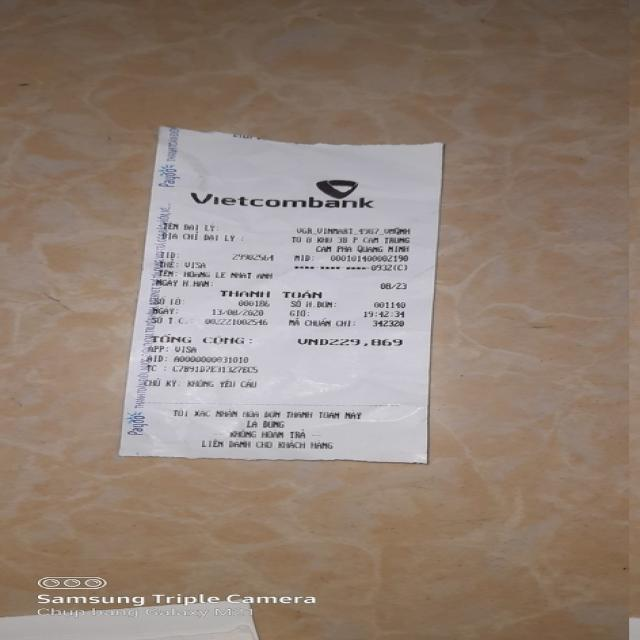Date: (210, 306, 264, 316)
Store_Name: (181, 190, 388, 213)
amount_number: (328, 338, 404, 348)
label_total: (150, 332, 244, 345)
